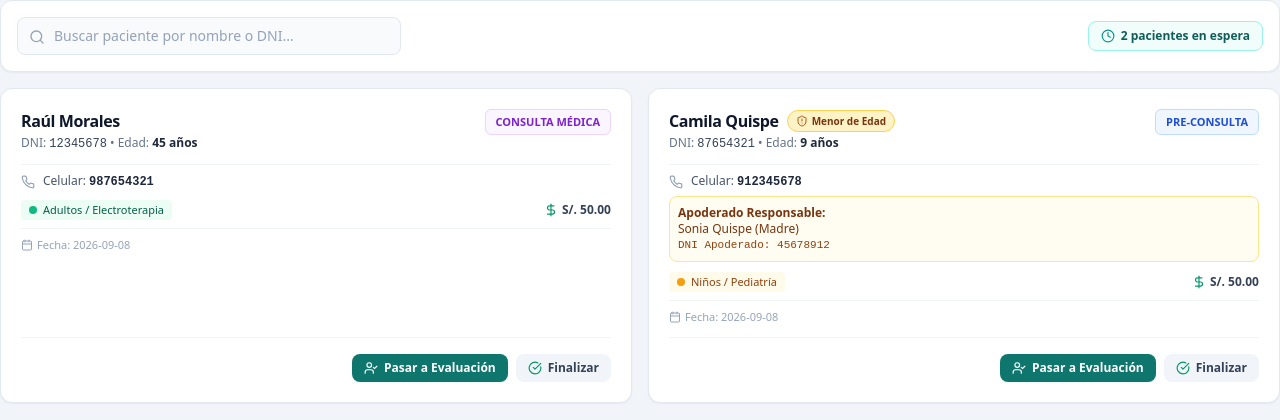
Test: ColaTriage Component (Tablero de Pacientes en Espera) › debe permitir buscar o filtrar pacientes por nombre o DNI
Type "Morales" into the field with placeholder "Buscar paciente por nombre o DNI..." at (209, 36), box [17,17,401,55]
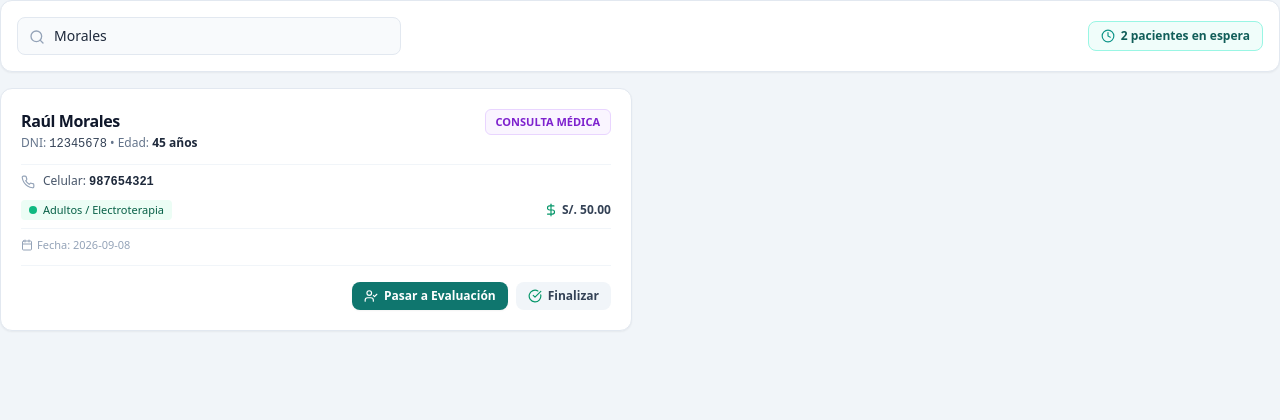
Expected: the heading "Raúl Morales" is shown, [21,109,120,133]
Expected: the heading "Camila Quispe" is gone
